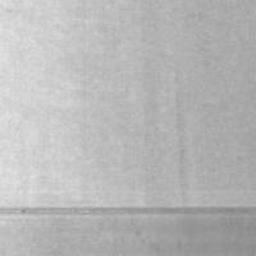Welding line: (0, 205, 256, 216)
